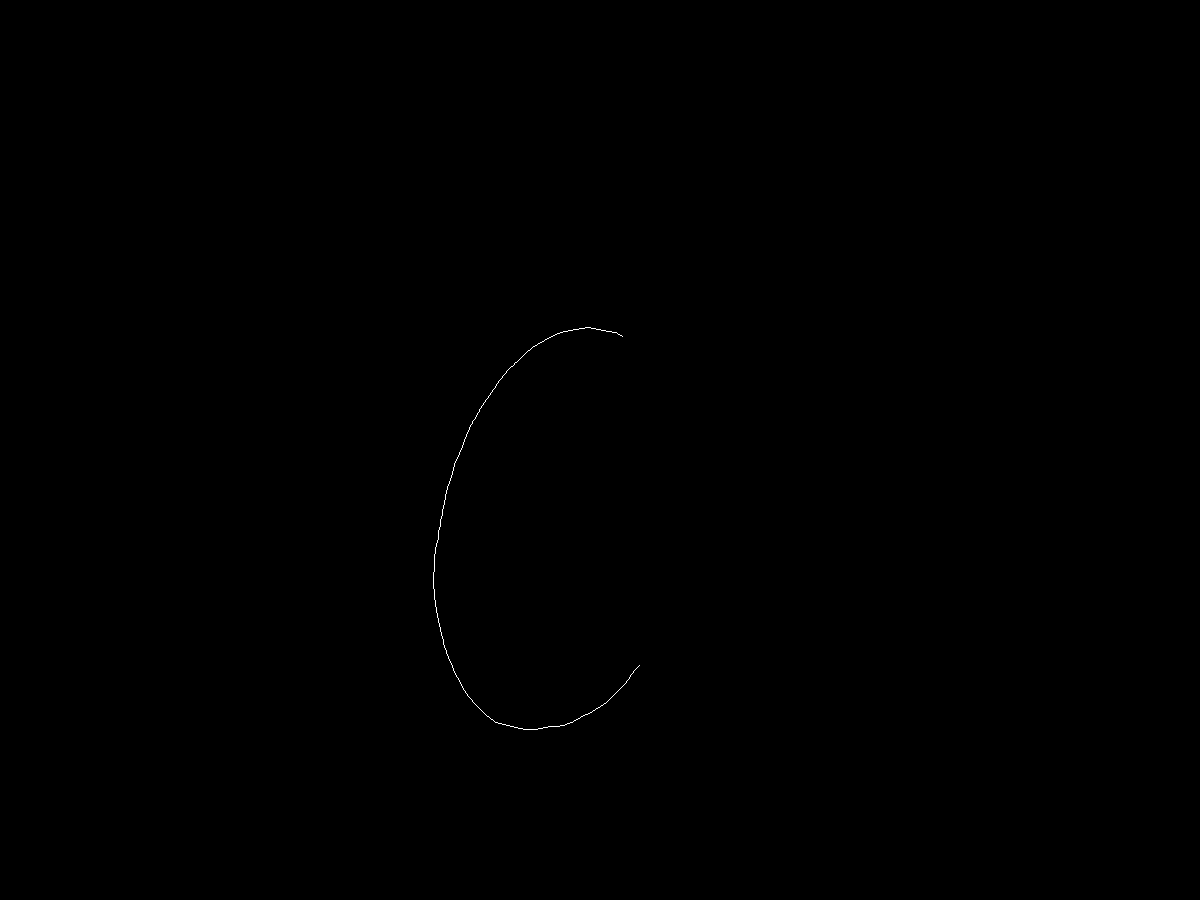dian1: (613, 324, 632, 348)
dian2: (631, 659, 650, 678)
